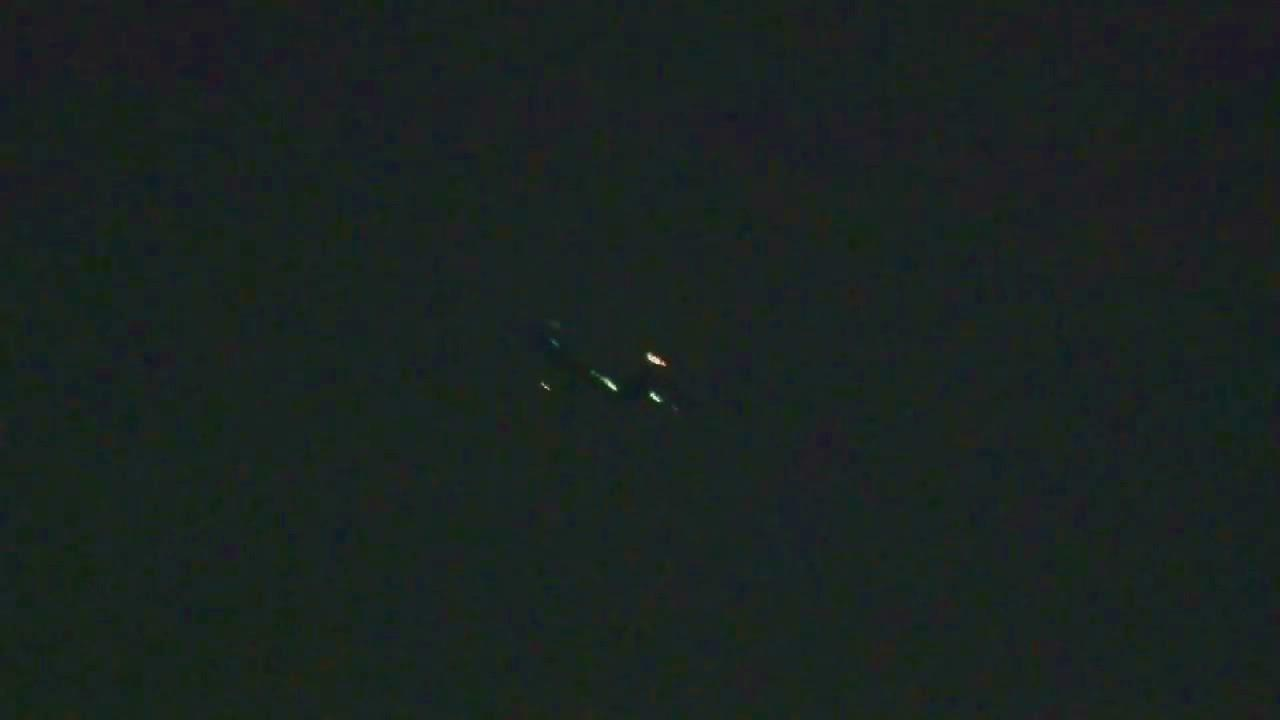Plane: (543, 340, 743, 417)
